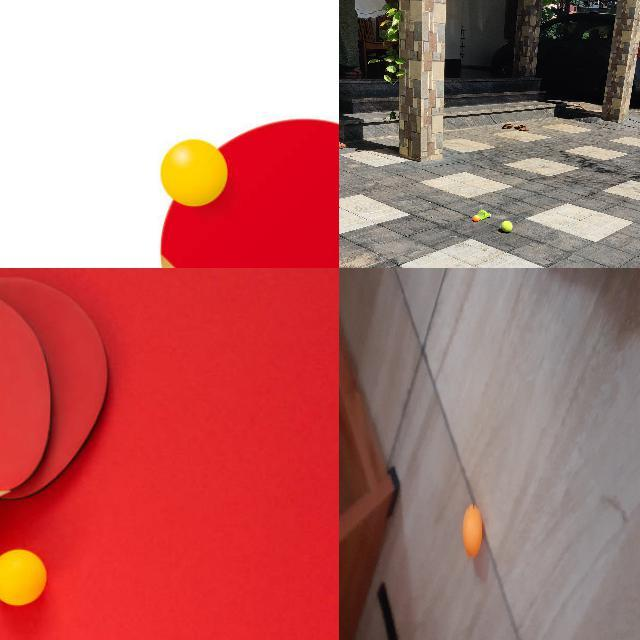ping-pong-ball: (160, 138, 224, 208), (0, 549, 46, 606), (462, 503, 482, 558), (473, 214, 479, 222)
